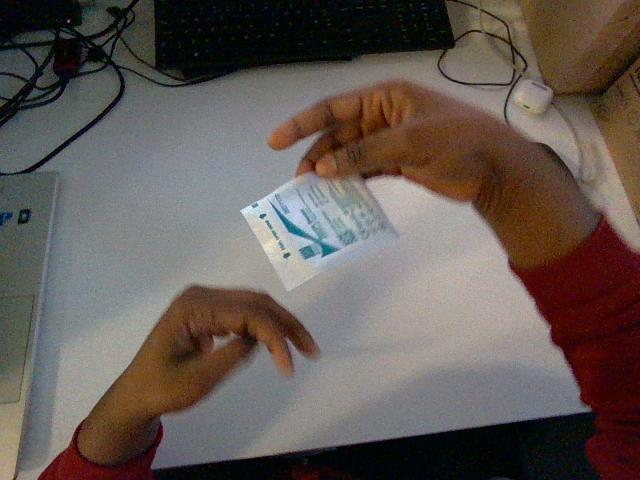gauze: (242, 173, 396, 289)
